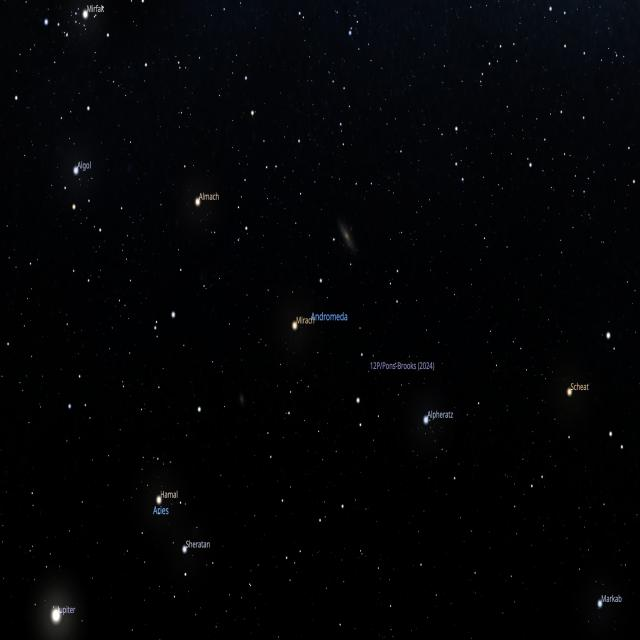Andromeda: (194, 190, 433, 429)
